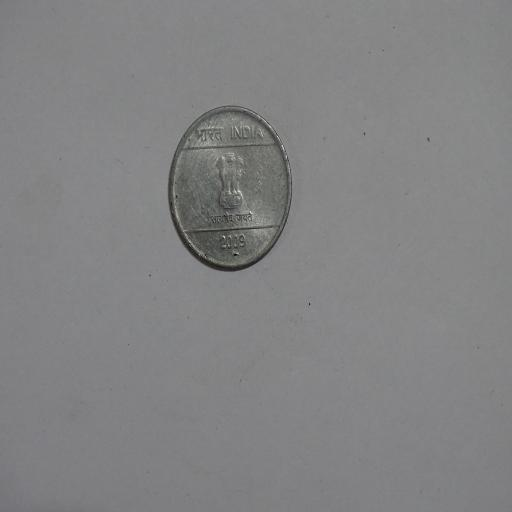rupee1: (168, 107, 293, 270)
